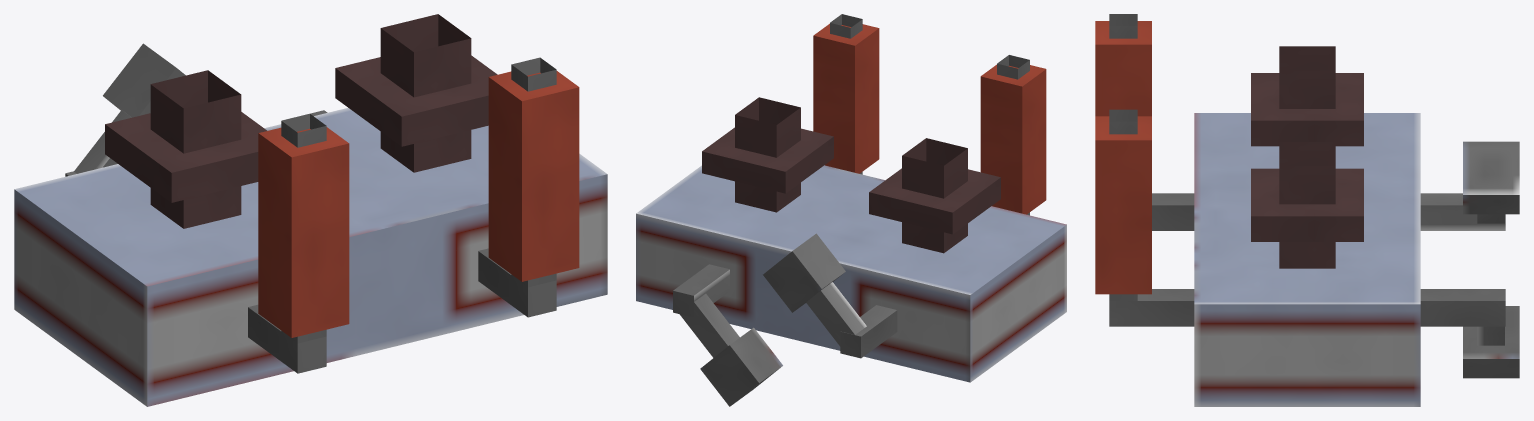
Rendered from marx_stage_mirrored.obj.
The picture shows the model from 3 angles, left to right: view 1: azimuth 30°, elevation 25°; view 2: azimuth 150°, elevation 25°; view 3: azimuth 270°, elevation 25°; orthographic projection. The views are drawn at different scales.
Visible parts, largest first — view 1: Cube.003_Cube.013; view 2: Cube.003_Cube.013; view 3: Cube.003_Cube.013.
Part boxes in pixels (left/top/right/bottom): Cube.003_Cube.013: left=14, top=14, right=607, bottom=406; Cube.003_Cube.013: left=636, top=14, right=1066, bottom=406; Cube.003_Cube.013: left=1095, top=14, right=1519, bottom=406.
Size of the model in its own units: 2 by 1.43 by 1.88.
